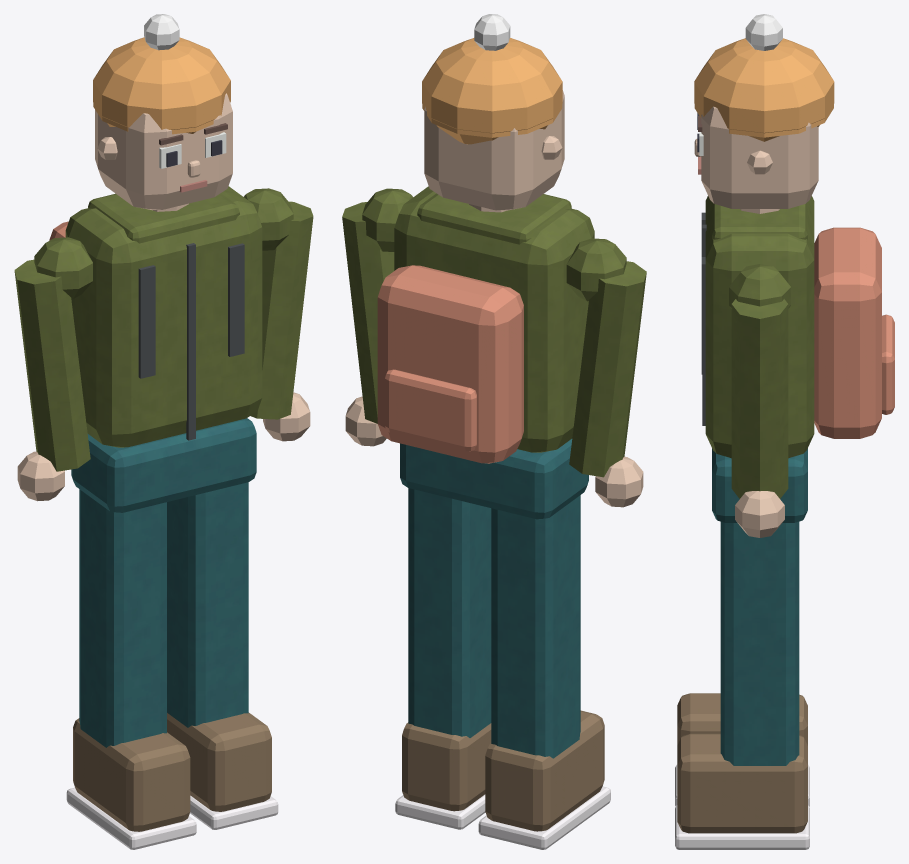
3 renders of one model, left to right at view 1: azimuth 30°, elevation 25°; view 2: azimuth 150°, elevation 25°; view 3: azimuth 270°, elevation 25°, orthographic.
Visible parts, largest first — view 1: Skin_explorer; view 2: Skin_explorer; view 3: Skin_explorer.
Part boxes in pixels (left/top/right/bottom): Skin_explorer: left=14, top=14, right=313, bottom=849; Skin_explorer: left=342, top=14, right=646, bottom=849; Skin_explorer: left=675, top=14, right=894, bottom=849.
Size of the model in its own units: 0.79 by 2.02 by 0.505.
3 materials, 3 textured.
